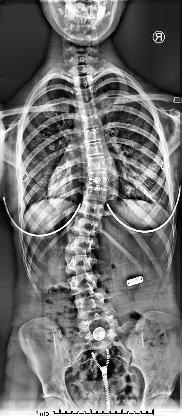Vertebrae: (71, 166, 124, 188), (53, 254, 107, 274), (65, 296, 123, 314), (59, 273, 111, 293), (73, 153, 124, 173), (56, 235, 108, 253), (60, 219, 112, 237), (66, 100, 108, 122), (72, 141, 120, 157), (69, 115, 109, 134), (73, 127, 113, 145), (69, 202, 113, 218), (77, 188, 113, 206), (66, 86, 106, 102), (64, 75, 104, 91), (64, 63, 104, 77)
